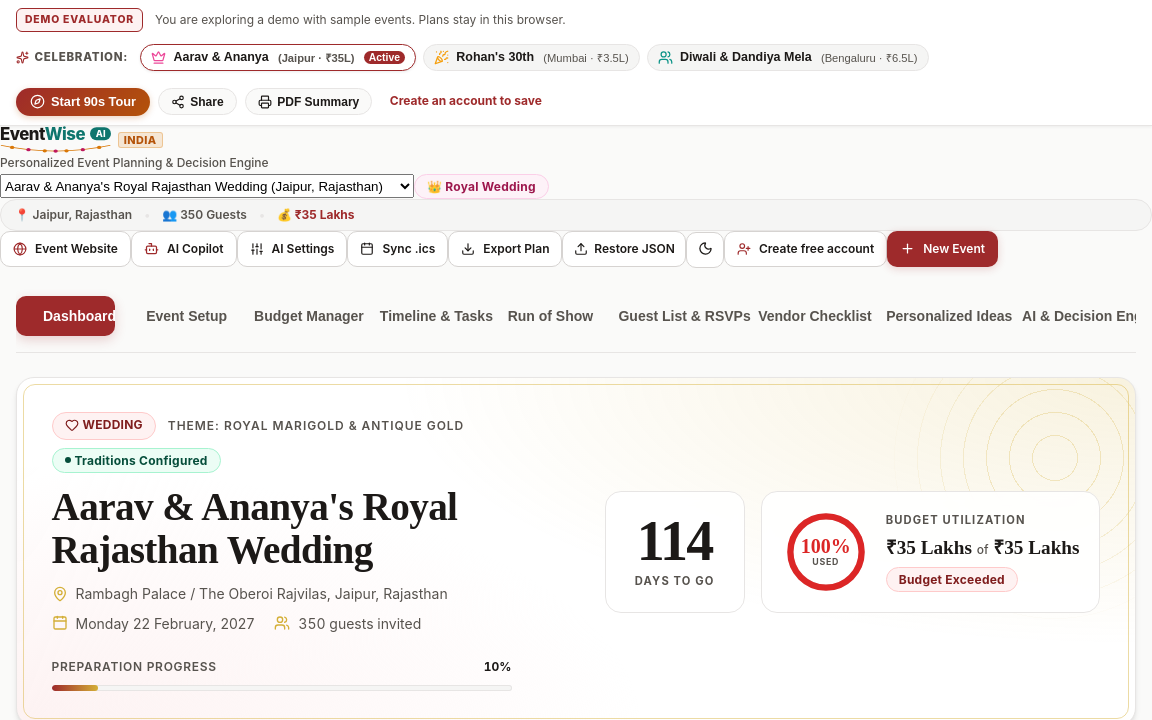
it: Clean Slate for Logged-In Users & Event Website Builder › allows opening the Event Website modal and exploring website previews
The width and height of the screenshot is (1152, 720).
Step 1. Click the button with aria-label "Event Website Builder" → (66, 249), box [0, 231, 131, 267]
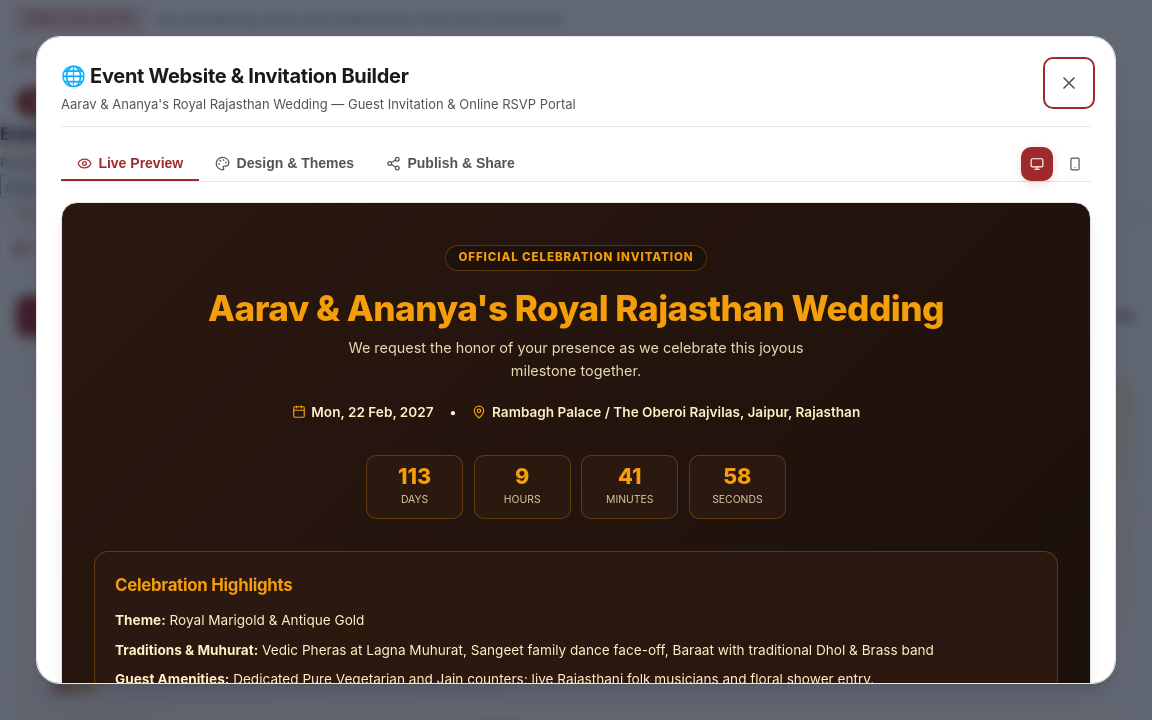
Expected: the heading "🌐 Event Website & Invitation Builder" is shown, [61, 64, 408, 88]
Expected: the tab "Live Preview" is shown, [61, 147, 199, 181]
Expected: the tab "Design & Themes" is shown, [199, 147, 370, 181]
